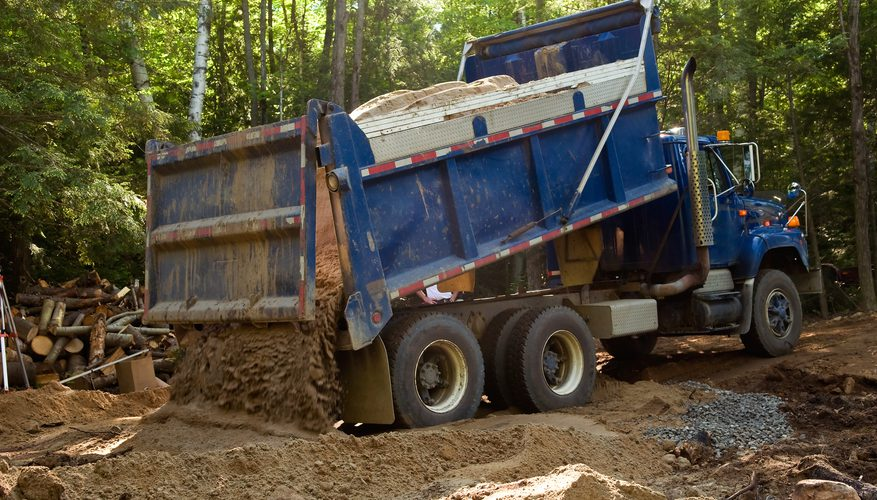truck: (150, 3, 807, 439)
